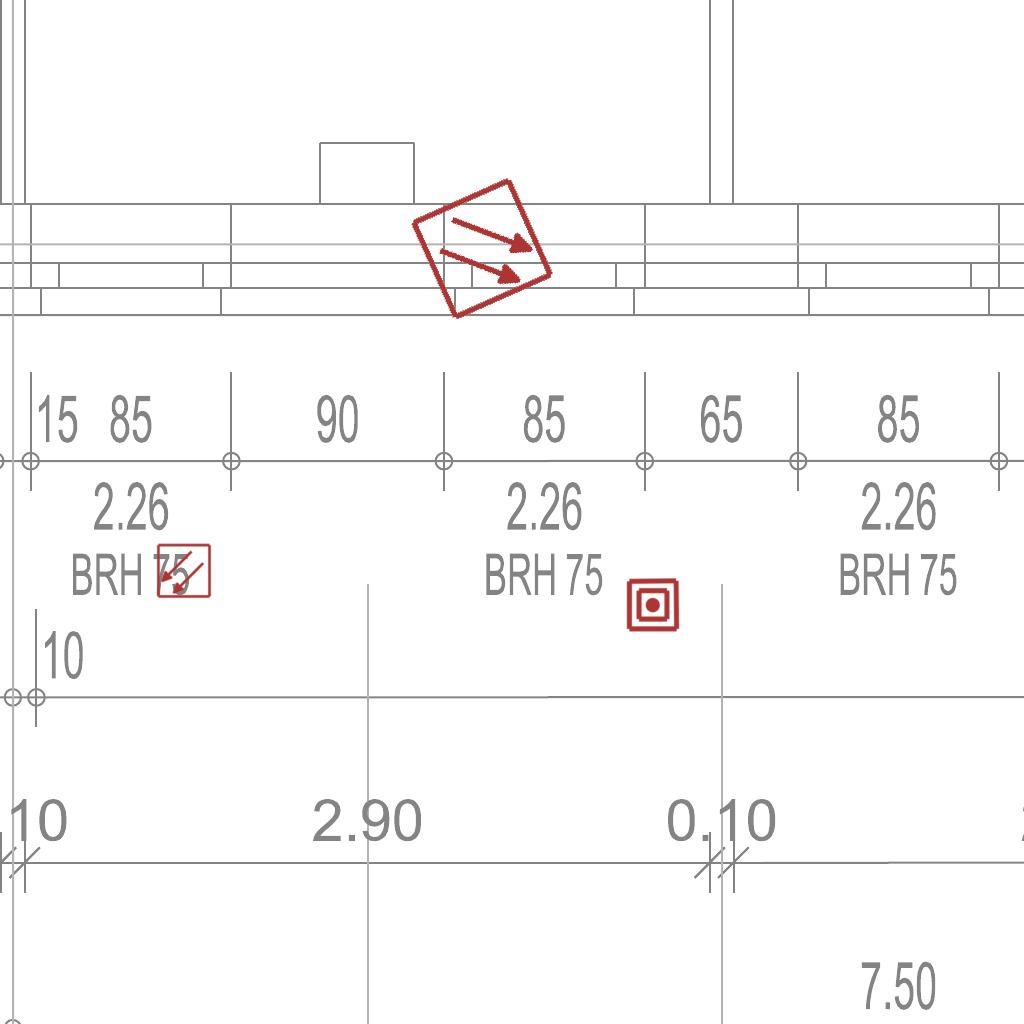NAM-Nichtautomatischer_Melder: (625, 577, 681, 633)
RMO_Rauchmelder_optischer: (407, 173, 558, 324), (156, 543, 212, 599)
